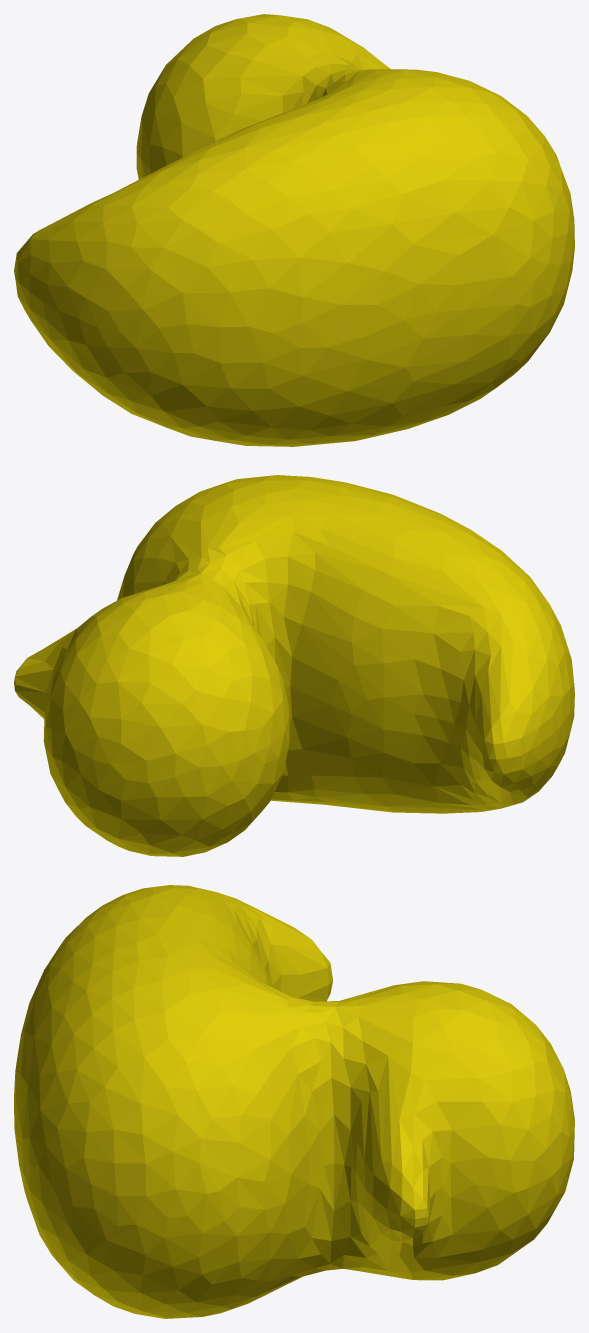
Rendered from duck.glb.
3 views of the same model, one above another, from view 1: azimuth 30°, elevation 25°; view 2: azimuth 150°, elevation 25°; view 3: azimuth 270°, elevation 25° (orthographic). The views are drawn at different scales.
Visible parts, largest first — view 1: world; view 2: world; view 3: world.
Part boxes in pixels (<box>): world: <box>14,14,574,446</box>; world: <box>14,475,574,856</box>; world: <box>14,885,574,1318</box>.
Bounding box in the file's own units: 9.1 × 5.71 × 8.57.
